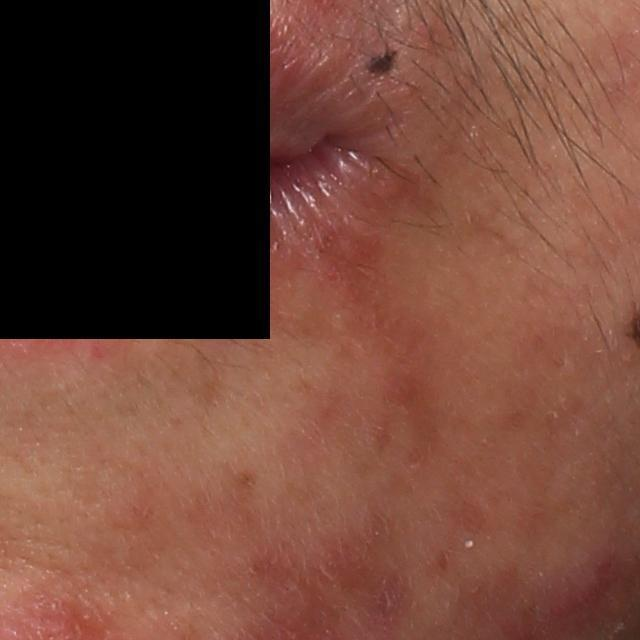nevus: (363, 46, 401, 79)
